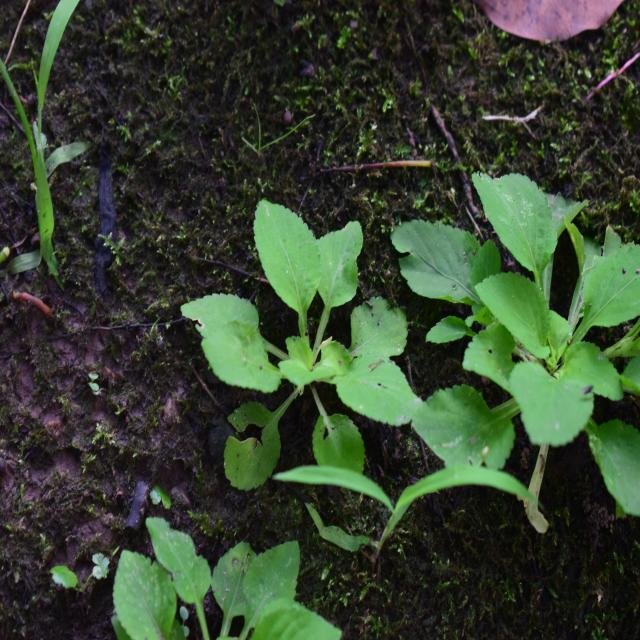Viola: (423, 138, 640, 516), (198, 205, 424, 501)
